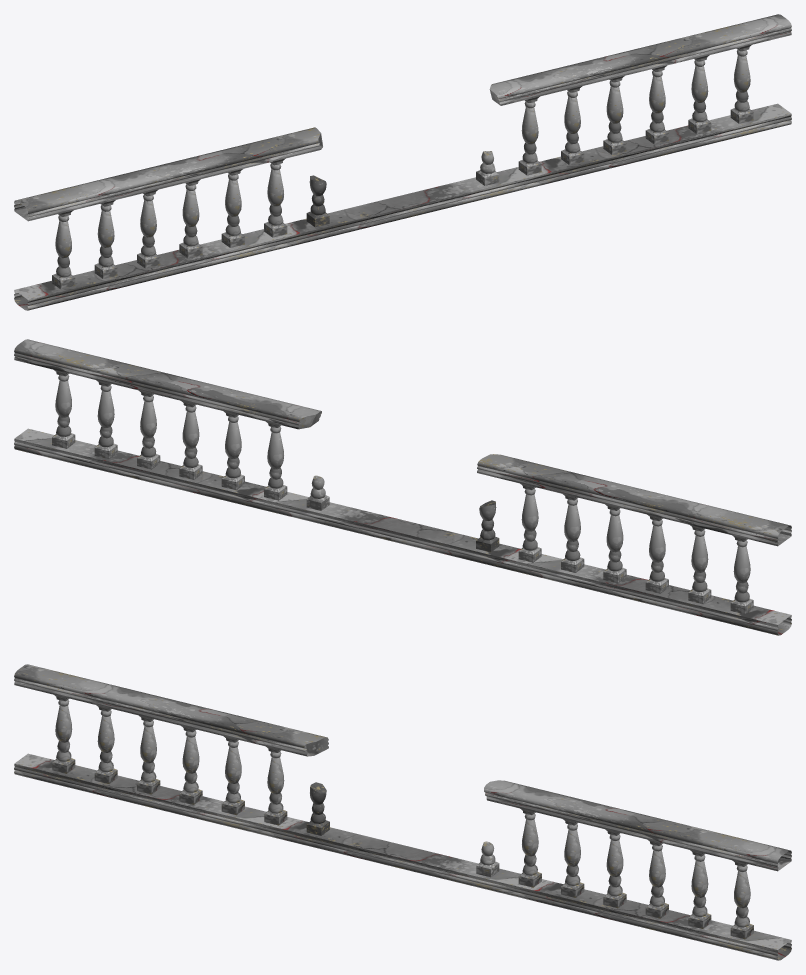
File: Railing_1.fbx
3 renders of one model, top to bottom at view 1: azimuth 30°, elevation 25°; view 2: azimuth 150°, elevation 25°; view 3: azimuth 330°, elevation 25°, orthographic.
Visible parts, largest first — view 1: Railing_1; view 2: Railing_1; view 3: Railing_1.
Boxes of the visible parts, x1,y1,x2,y2 form: Railing_1: (14, 14, 791, 310); Railing_1: (14, 339, 791, 635); Railing_1: (14, 664, 791, 960).
Size of the model in its own units: 670 by 86.75 by 21.8.
